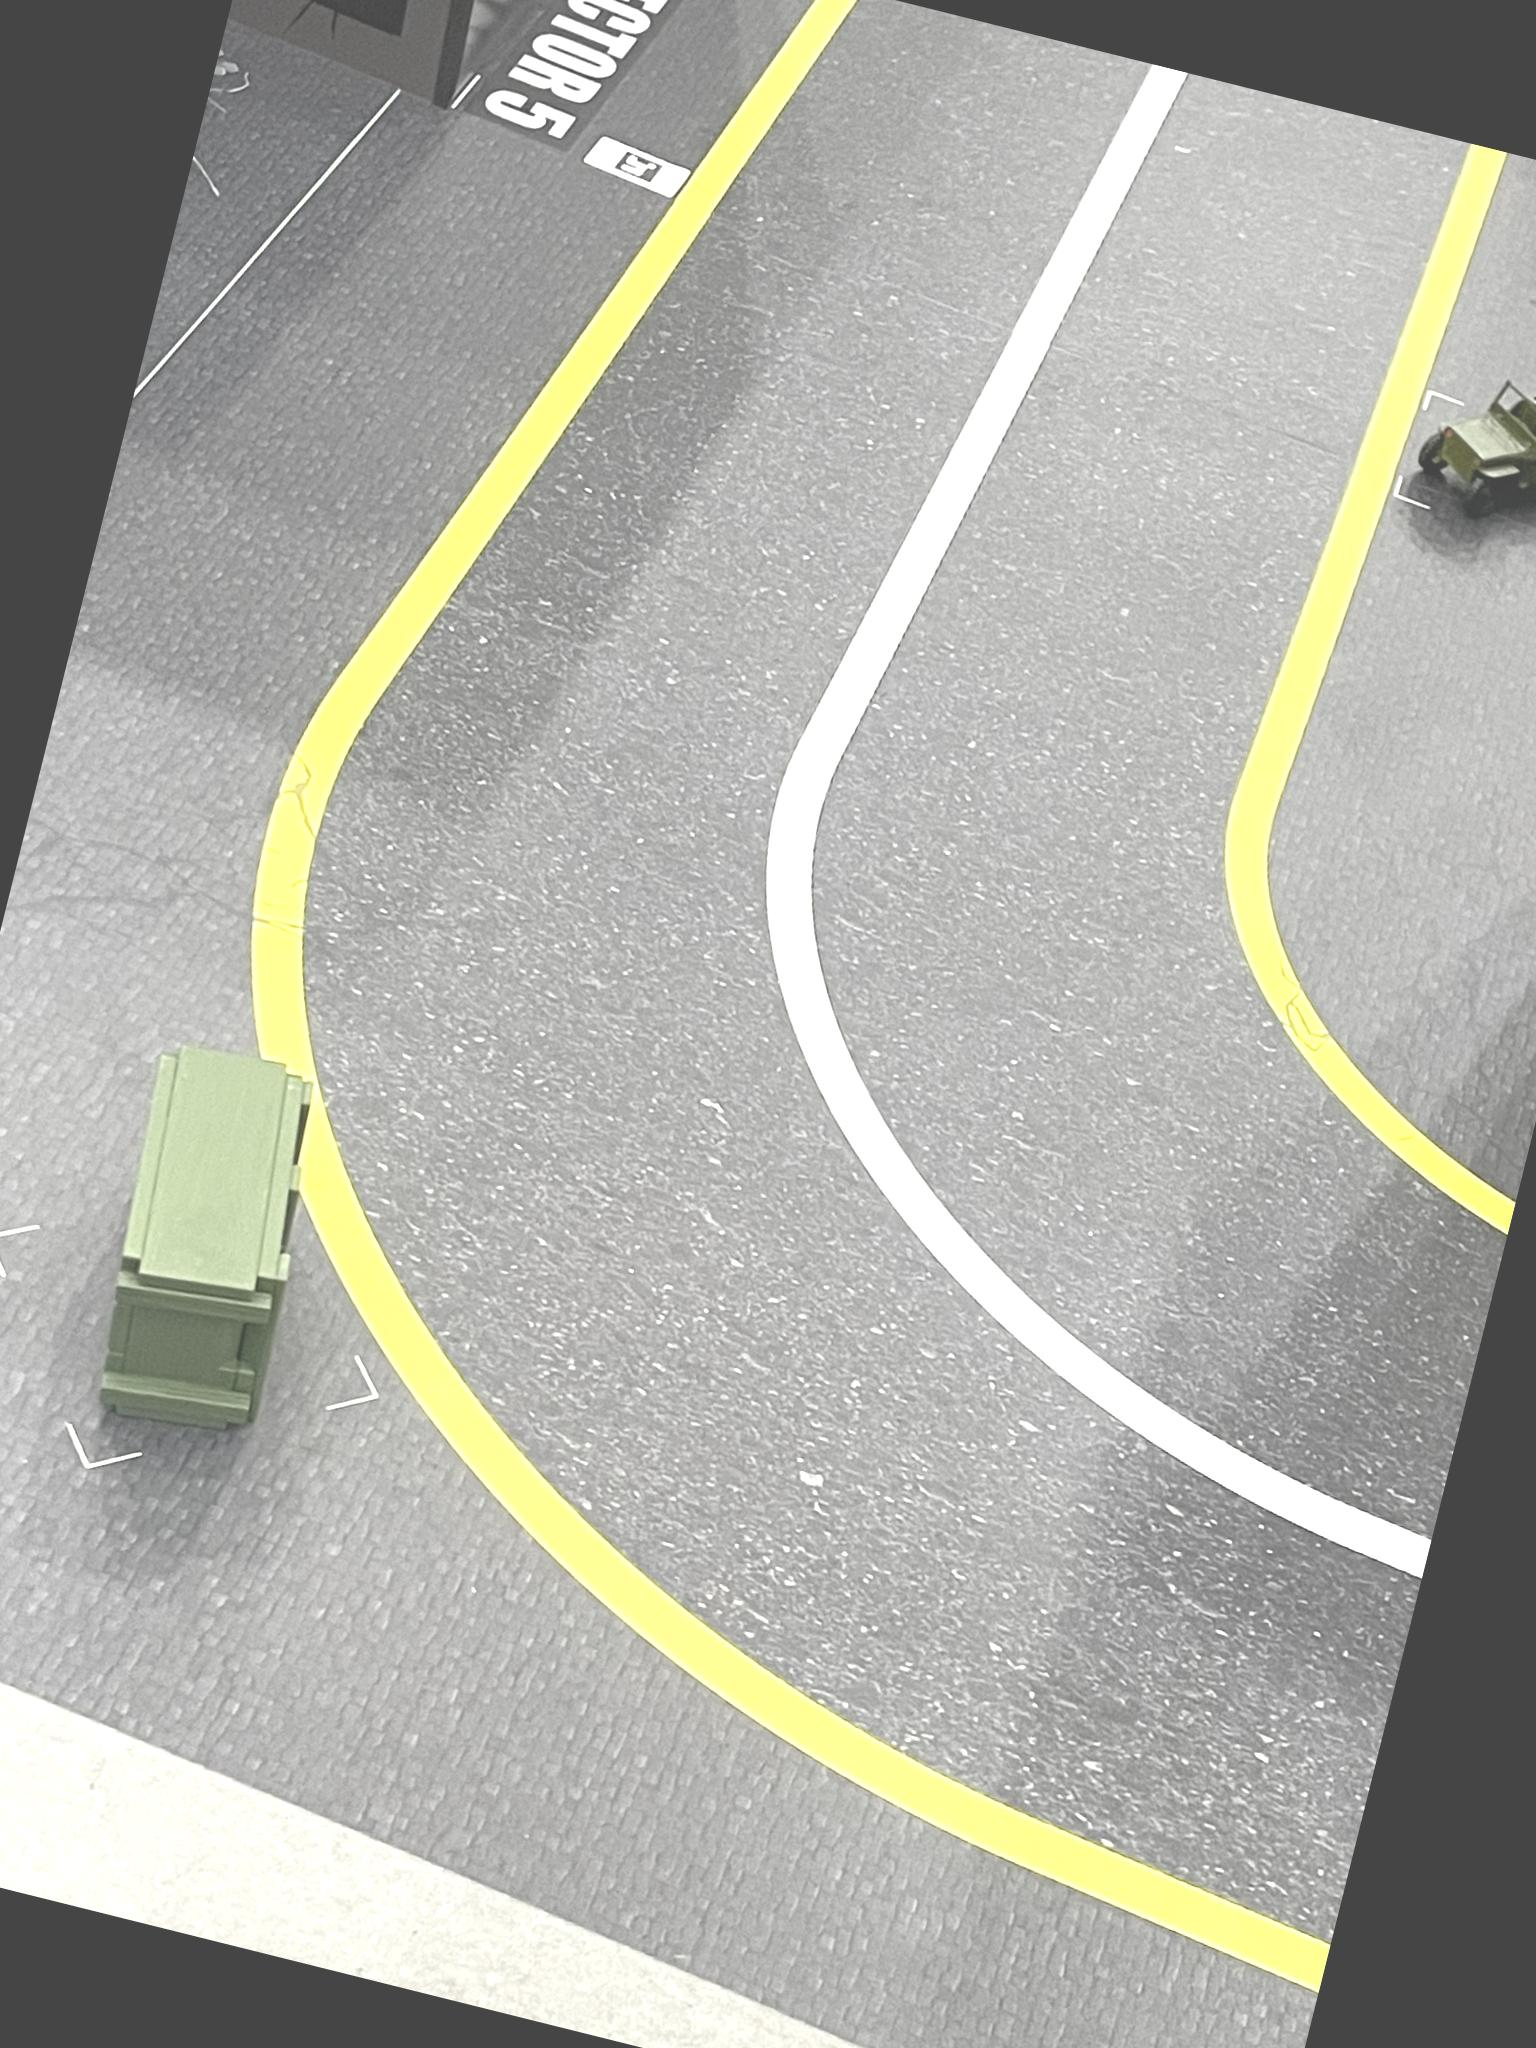Box: (52, 1022, 365, 1479)
Car: (1396, 343, 1536, 585)
